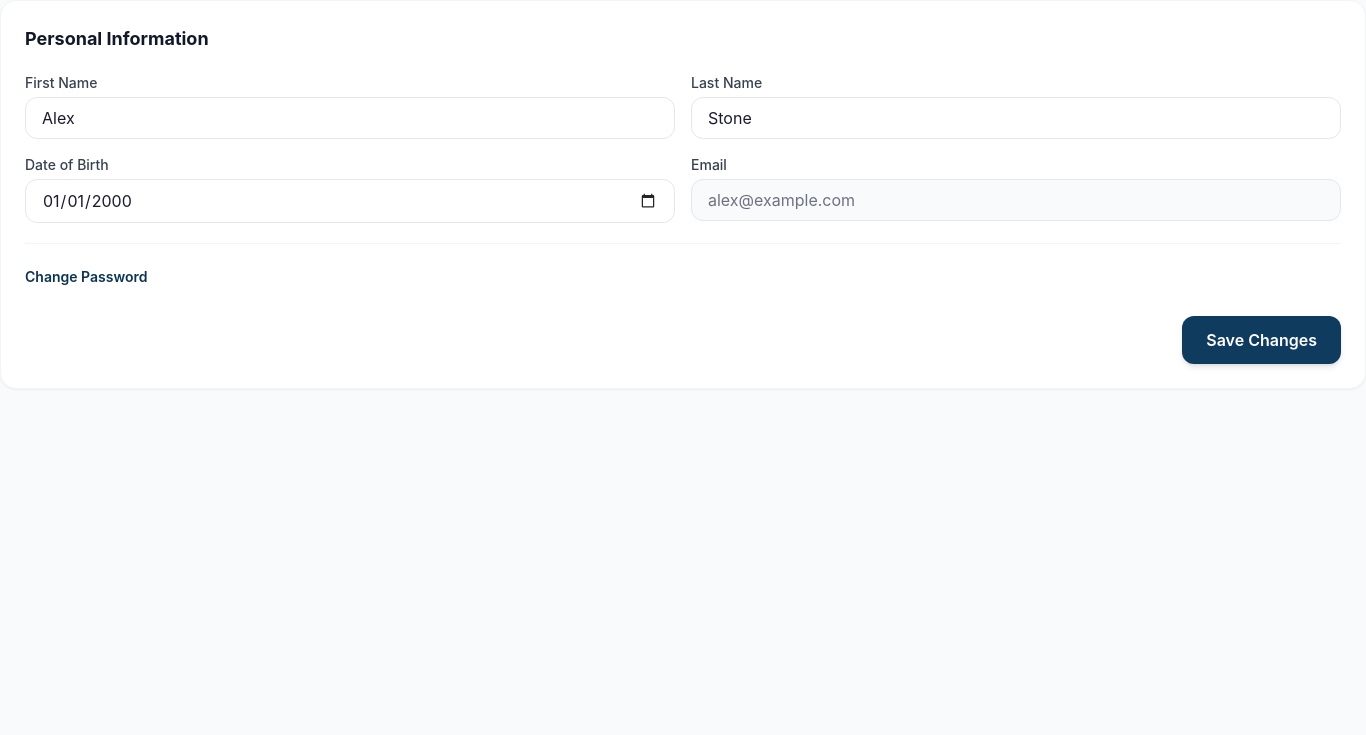
Scenario: ProfileEditForm submit flow › shows a slow-operation warning for password updates instead of surfacing a timeout failure
Click the button "Change Password". click: (86, 277)
box: [25,267,147,287]
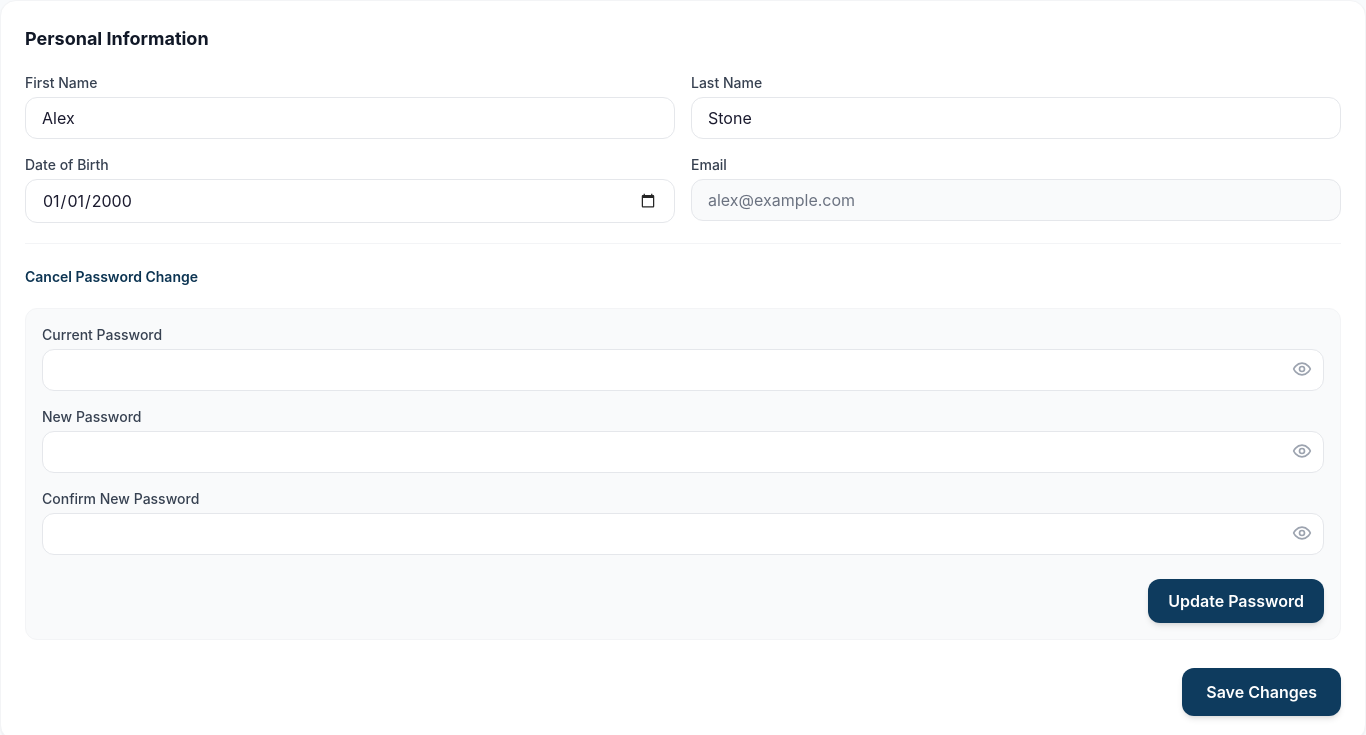
Type "OldPassword1!" into the password field named "Current Password". click: (683, 370)
box: [42,349,1324,391]
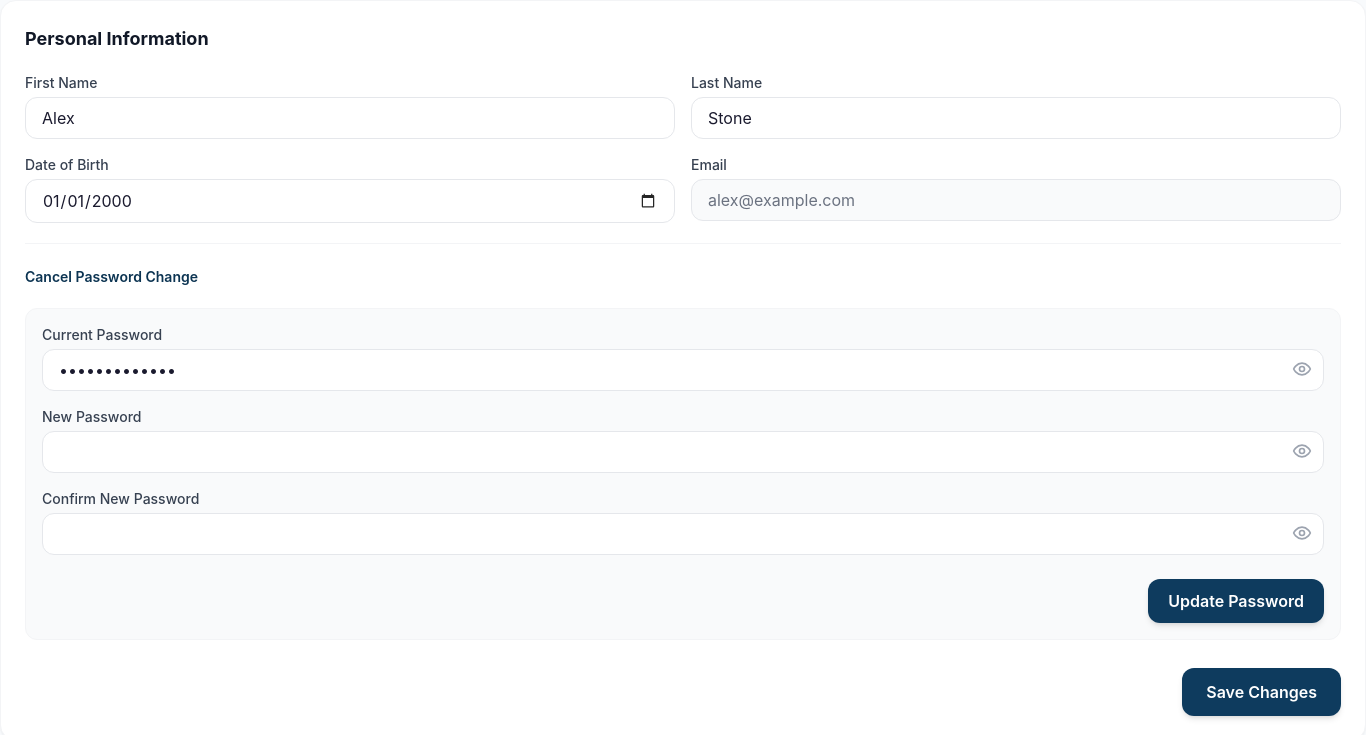
Type "NewPassword1!" into the password field named "New Password". click: (683, 452)
box: [42,431,1324,473]
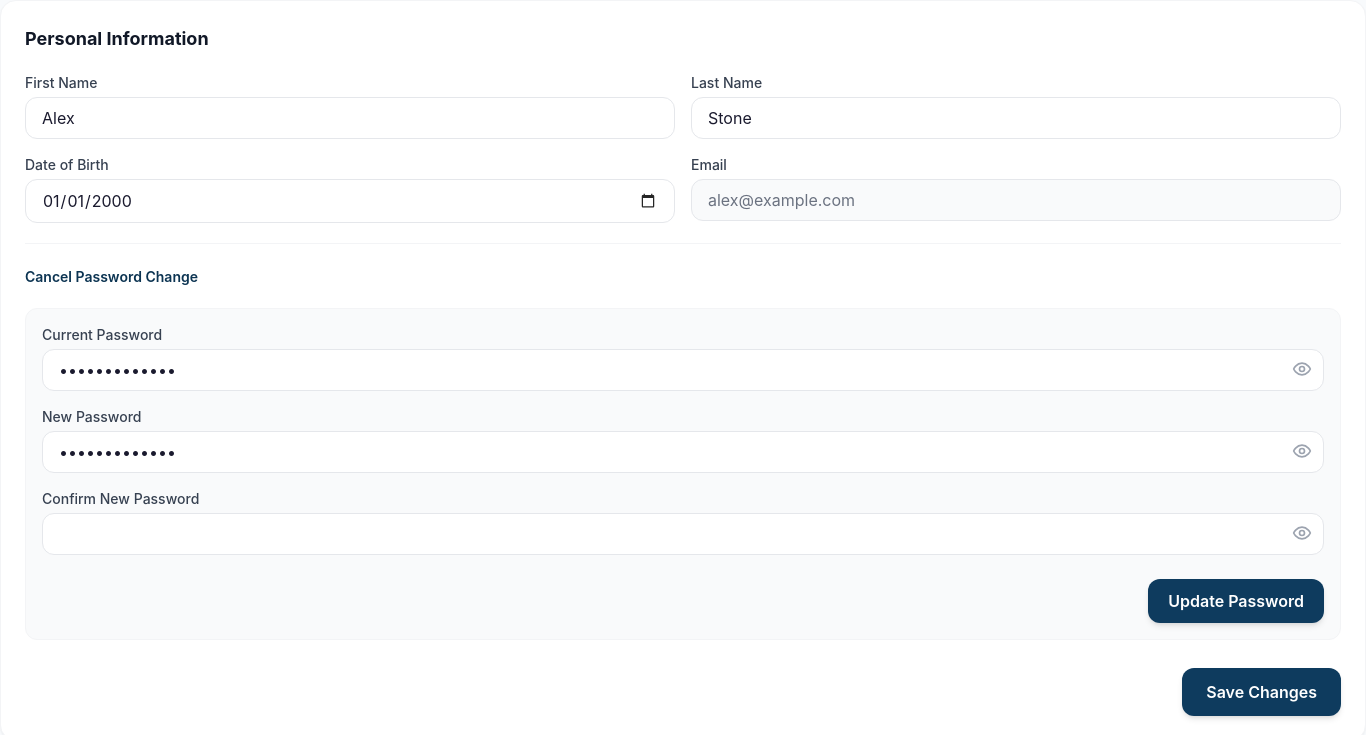
Type "NewPassword1!" into the password field named "Confirm New Password". click: (683, 534)
box: [42,513,1324,555]
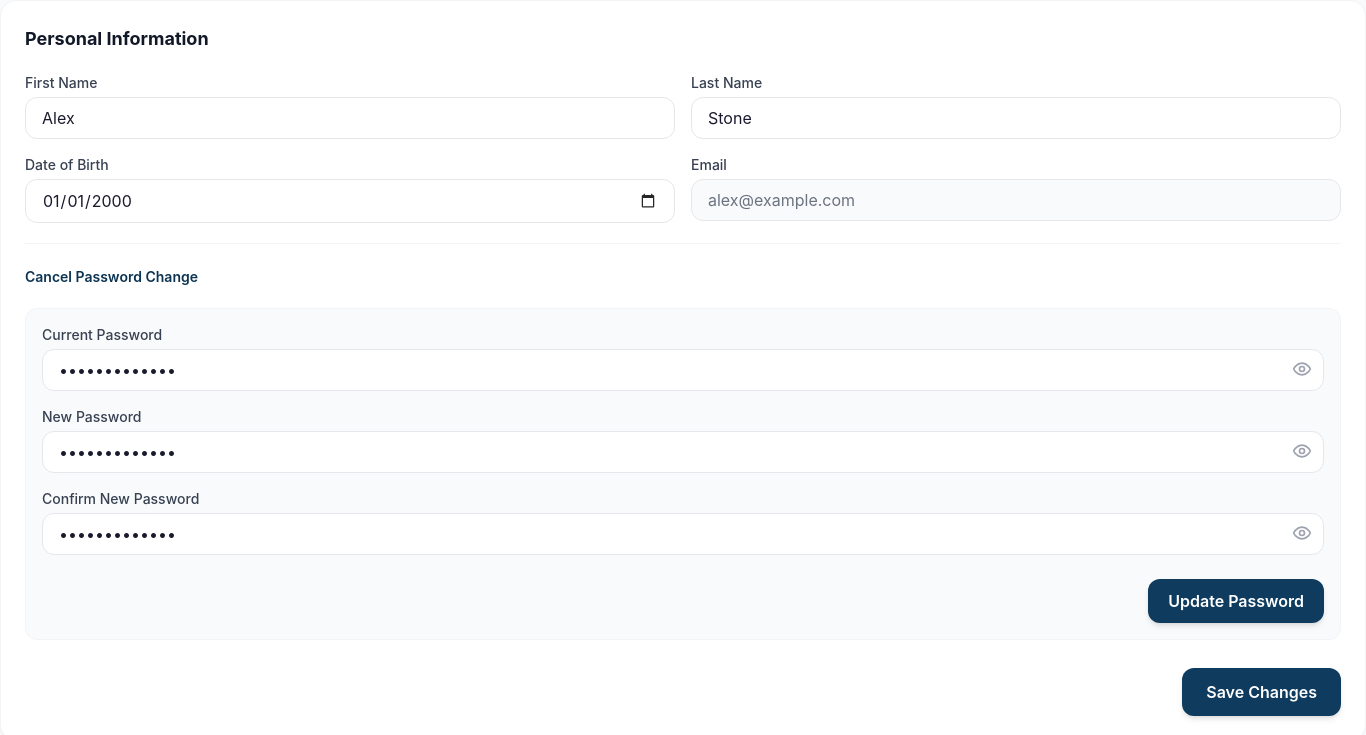
Click the button with test id "profile-password-save". click: (1236, 601)
box: [1148,579,1324,623]
Wait 12000 ms
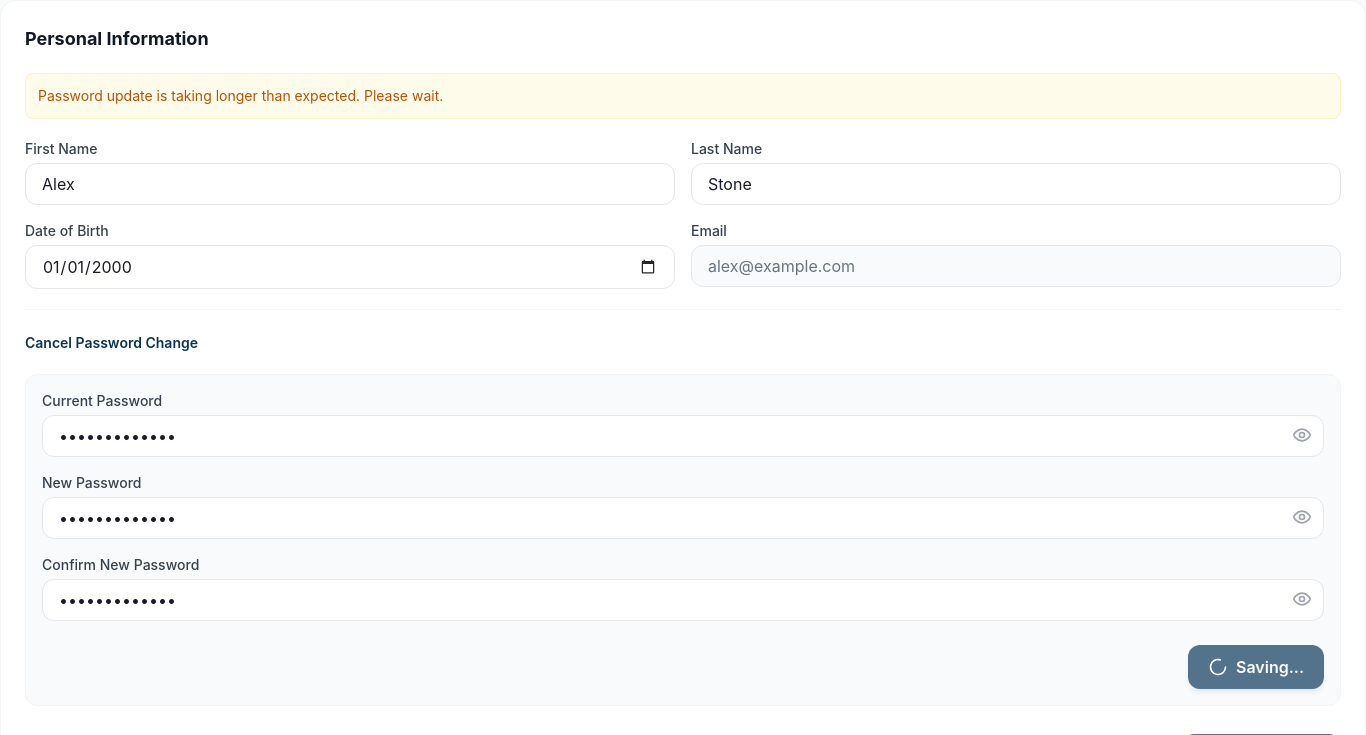
Now the text "Password update is taking longer than expected. Please wait." is shown, box [25,73,1341,119]
